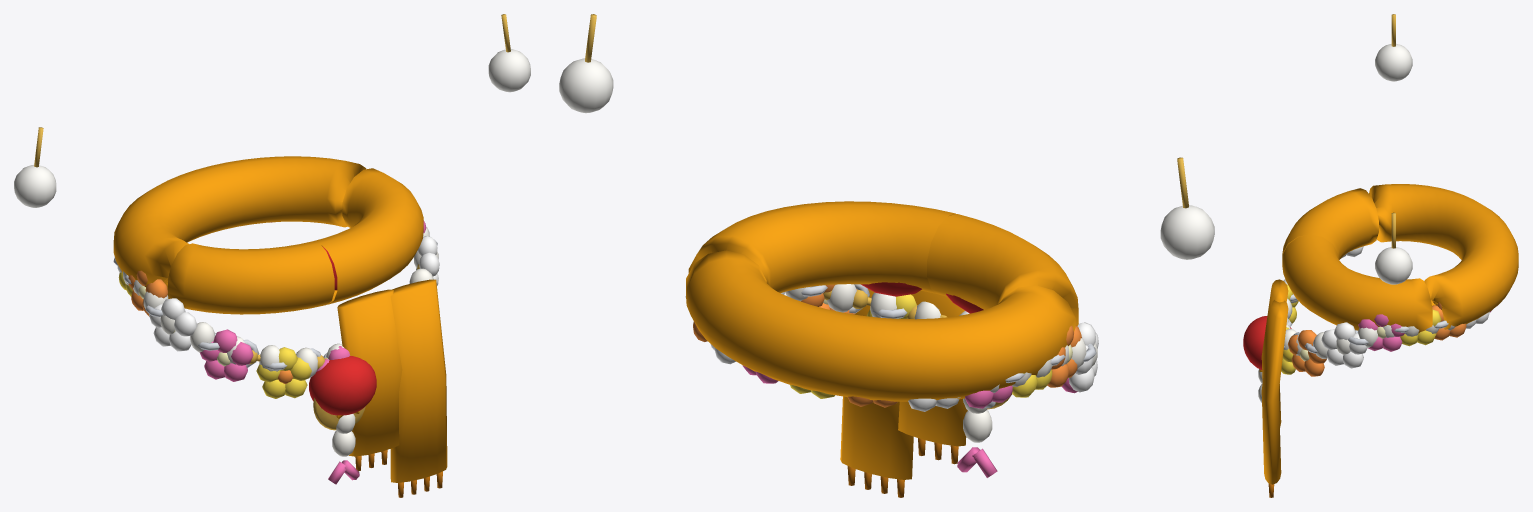
The model's file is props-j.glb.
3 views of the same model, side by side, from view 1: azimuth 30°, elevation 25°; view 2: azimuth 150°, elevation 25°; view 3: azimuth 270°, elevation 25° (orthographic). The views are drawn at different scales.
Parts seen in each view (by area): view 1: j-scarf, j-lei, j-jasmine, j-pearl, j-chain, j-gold; view 2: j-scarf, j-lei, j-pearl, j-jasmine, j-chain, j-bowtie; view 3: j-scarf, j-lei, j-pearl, j-jasmine, j-chain.
Boxes of the visible parts, left/top/right/bottom form: j-scarf: left=113, top=156, right=447, bottom=497; j-lei: left=118, top=220, right=439, bottom=398; j-jasmine: left=117, top=226, right=438, bottom=484; j-pearl: left=14, top=14, right=530, bottom=207; j-chain: left=113, top=239, right=437, bottom=370; j-gold: left=249, top=264, right=419, bottom=430; j-scarf: left=686, top=201, right=1078, bottom=497; j-lei: left=693, top=284, right=1098, bottom=411; j-pearl: left=559, top=14, right=1214, bottom=259; j-jasmine: left=785, top=284, right=1097, bottom=477; j-chain: left=685, top=284, right=1096, bottom=408; j-bowtie: left=861, top=282, right=983, bottom=313; j-scarf: left=1261, top=184, right=1518, bottom=497; j-lei: left=1281, top=246, right=1497, bottom=376; j-pearl: left=1375, top=14, right=1412, bottom=284; j-jasmine: left=1243, top=279, right=1468, bottom=402; j-chain: left=1284, top=294, right=1448, bottom=353.
Size of the model in its own units: 0.4334 by 0.3153 by 0.2307.
